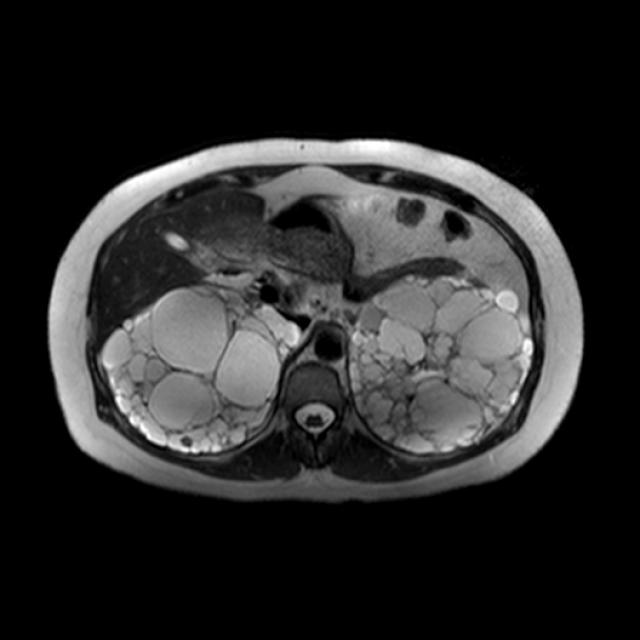sag: (97, 284, 302, 455)
sol: (345, 274, 536, 451)
